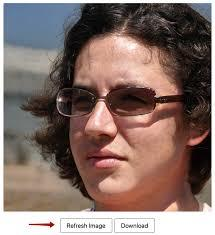Persons: (41, 1, 214, 213)
